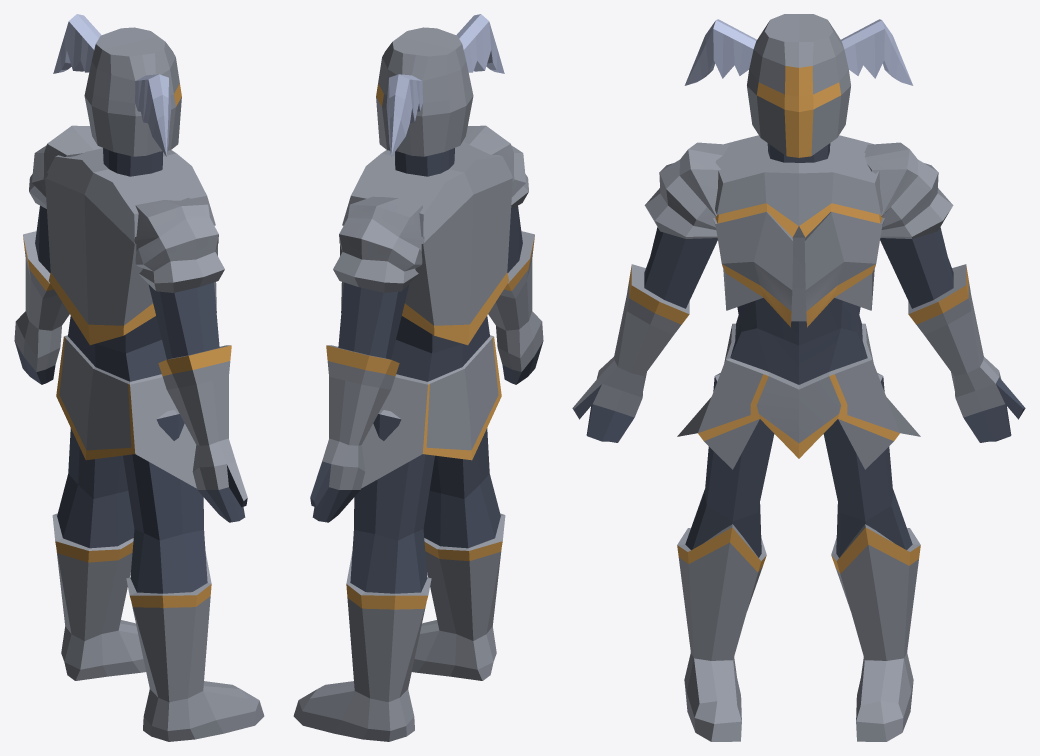
File: paladin.fbx
3 views of the same model, side by side, from view 1: azimuth 30°, elevation 25°; view 2: azimuth 150°, elevation 25°; view 3: azimuth 270°, elevation 25° (orthographic).
Parts seen in each view (by area): view 1: Plane, Plane.010, Plane.009, Plane.001, Plane.006, Plane.008, Plane.003, Plane.007, Plane.005, Plane.002; view 2: Plane, Plane.009, Plane.010, Plane.001, Plane.005, Plane.007, Plane.002, Plane.008, Plane.006, Plane.003; view 3: Plane, Plane.001, Plane.009, Plane.010, Plane.005, Plane.006, Plane.007, Plane.008, Plane.003, Plane.002.
Part boxes in pixels (left/top/right/bottom): Plane: left=45, top=148, right=217, bottom=488; Plane.010: left=126, top=529, right=264, bottom=741; Plane.009: left=52, top=474, right=145, bottom=680; Plane.001: left=53, top=14, right=181, bottom=156; Plane.006: left=134, top=197, right=224, bottom=359; Plane.008: left=158, top=345, right=247, bottom=522; Plane.003: left=123, top=410, right=203, bottom=540; Plane.007: left=14, top=231, right=69, bottom=384; Plane.005: left=29, top=125, right=102, bottom=272; Plane.002: left=68, top=428, right=128, bottom=498; Plane: left=340, top=140, right=512, bottom=609; Plane.009: left=293, top=529, right=431, bottom=741; Plane.010: left=412, top=474, right=505, bottom=680; Plane.001: left=376, top=14, right=504, bottom=156; Plane.005: left=333, top=196, right=423, bottom=359; Plane.007: left=310, top=345, right=399, bottom=522; Plane.002: left=354, top=410, right=434, bottom=540; Plane.008: left=488, top=231, right=543, bottom=384; Plane.006: left=463, top=125, right=528, bottom=272; Plane.003: left=429, top=428, right=489, bottom=498; Plane: left=677, top=135, right=920, bottom=469; Plane.001: left=684, top=14, right=913, bottom=157; Plane.009: left=831, top=489, right=920, bottom=741; Plane.010: left=677, top=489, right=766, bottom=741; Plane.005: left=864, top=142, right=953, bottom=308; Plane.006: left=644, top=142, right=729, bottom=308; Plane.007: left=908, top=264, right=1025, bottom=442; Plane.008: left=572, top=264, right=689, bottom=442; Plane.003: left=593, top=373, right=774, bottom=521; Plane.002: left=823, top=373, right=893, bottom=521.
Size of the model in its own units: 119 by 556 by 340.
